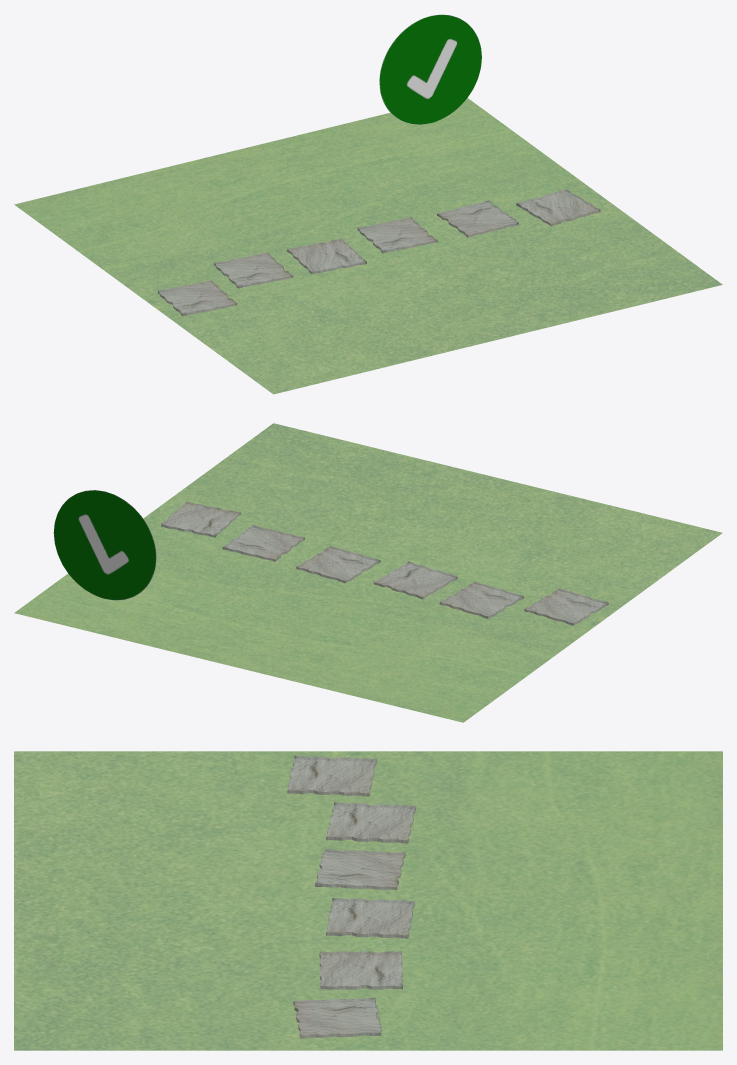
File: pathLR_preview.glb
3 renders of one model, top to bottom at view 1: azimuth 30°, elevation 25°; view 2: azimuth 150°, elevation 25°; view 3: azimuth 270°, elevation 25°, orthographic. The views are drawn at different scales.
Visible parts, largest first — view 1: Plane, Circle, Plane.007, Plane.006, Plane.005, Plane.001, Plane.003, Plane.004; view 2: Plane, Circle, Plane.001, Plane.004, Plane.003, Plane.005, Plane.006, Plane.007; view 3: Plane, Plane.004, Plane.006, Plane.001, Plane.005, Plane.003, Plane.007.
Part boxes in pixels (x1,y1,x2,y2): Plane: [14, 98, 722, 394]; Circle: [379, 14, 481, 124]; Plane.007: [516, 189, 600, 226]; Plane.006: [437, 200, 518, 237]; Plane.005: [357, 217, 437, 253]; Plane.001: [158, 280, 237, 316]; Plane.003: [214, 252, 293, 288]; Plane.004: [287, 238, 366, 273]; Plane: [14, 423, 722, 722]; Circle: [53, 490, 156, 600]; Plane.001: [524, 588, 608, 625]; Plane.004: [373, 561, 457, 599]; Plane.003: [439, 581, 523, 618]; Plane.005: [296, 545, 380, 583]; Plane.006: [222, 525, 304, 561]; Plane.007: [161, 501, 240, 537]; Plane: [14, 751, 722, 1050]; Plane.004: [315, 849, 405, 890]; Plane.006: [319, 951, 402, 989]; Plane.001: [287, 755, 376, 796]; Plane.005: [326, 898, 414, 938]; Plane.003: [326, 802, 415, 843]; Plane.007: [293, 997, 381, 1038].
Size of the model in its own units: 2 by 0.4909 by 2.
Materials: 3 (3 with a texture image).
